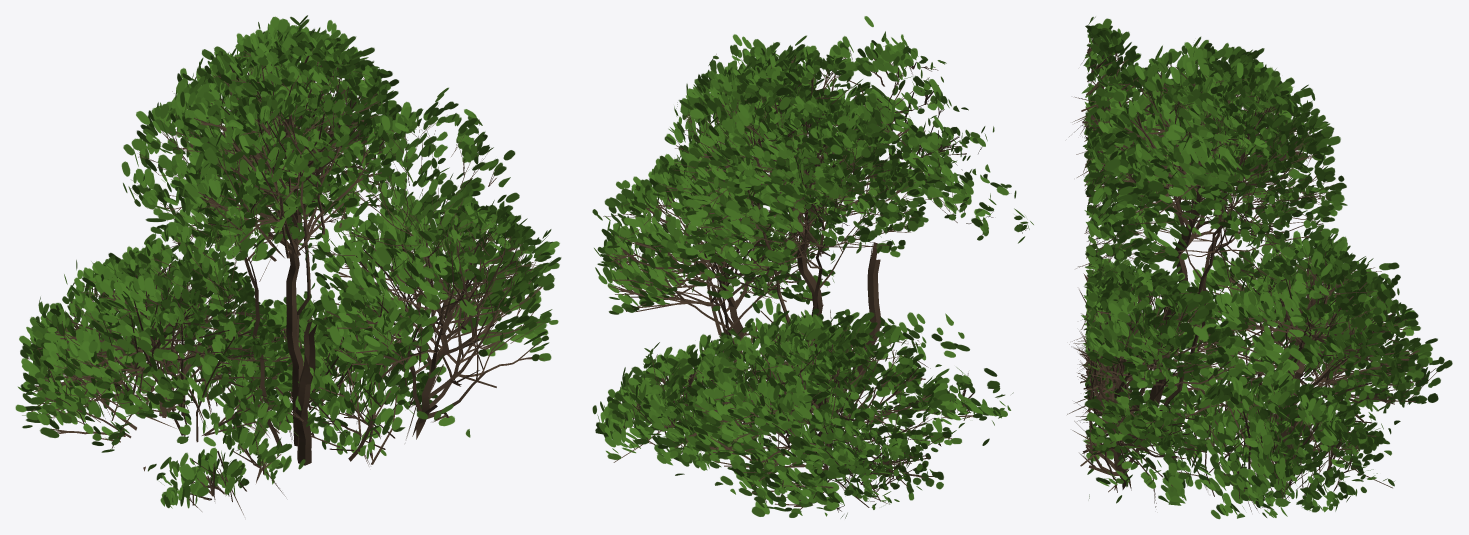
3 renders of one model, left to right at view 1: azimuth 30°, elevation 25°; view 2: azimuth 150°, elevation 25°; view 3: azimuth 270°, elevation 25°, orthographic. The views are drawn at different scales.
Visible parts, largest first — view 1: oak 01.001_trunk_Mat.001_0.359; view 2: oak 01.001_trunk_Mat.001_0.359; view 3: oak 01.001_trunk_Mat.001_0.359.
Part boxes in pixels (x1,y1,x2,y2): oak 01.001_trunk_Mat.001_0.359: (15, 15, 561, 514); oak 01.001_trunk_Mat.001_0.359: (592, 16, 1033, 518); oak 01.001_trunk_Mat.001_0.359: (1067, 16, 1452, 519).
Bounding box in the file's own units: 5.09 × 4.55 × 3.78.
2 materials, 1 textured.
